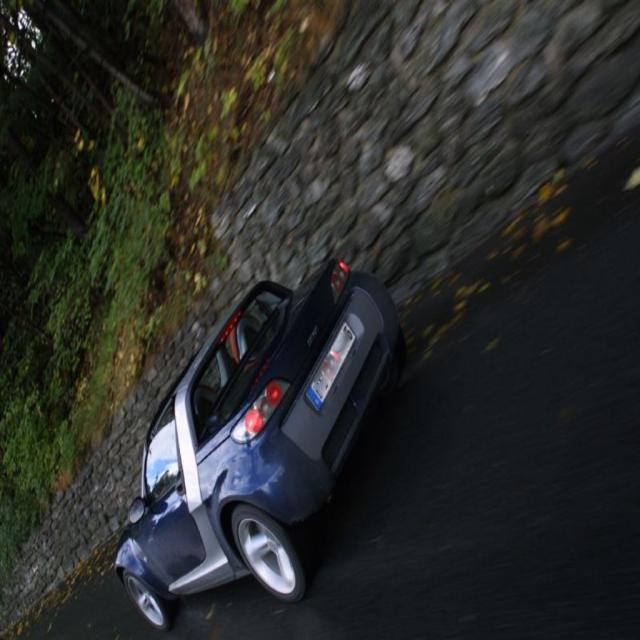car: (120, 230, 394, 629)
